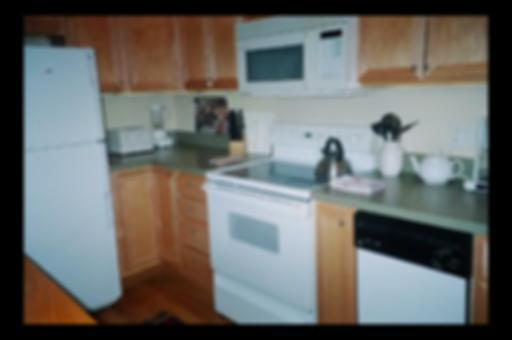Electrodomestico: (26, 49, 121, 302), (208, 171, 317, 323), (356, 208, 472, 322)
